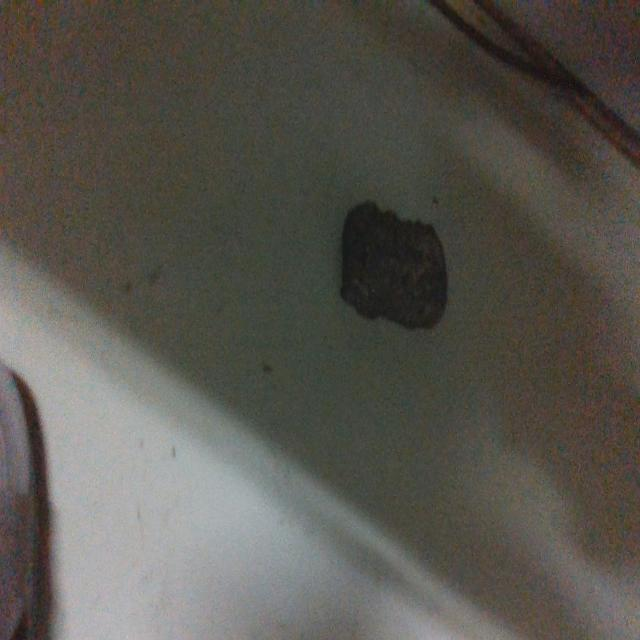stone: (339, 198, 448, 330)
